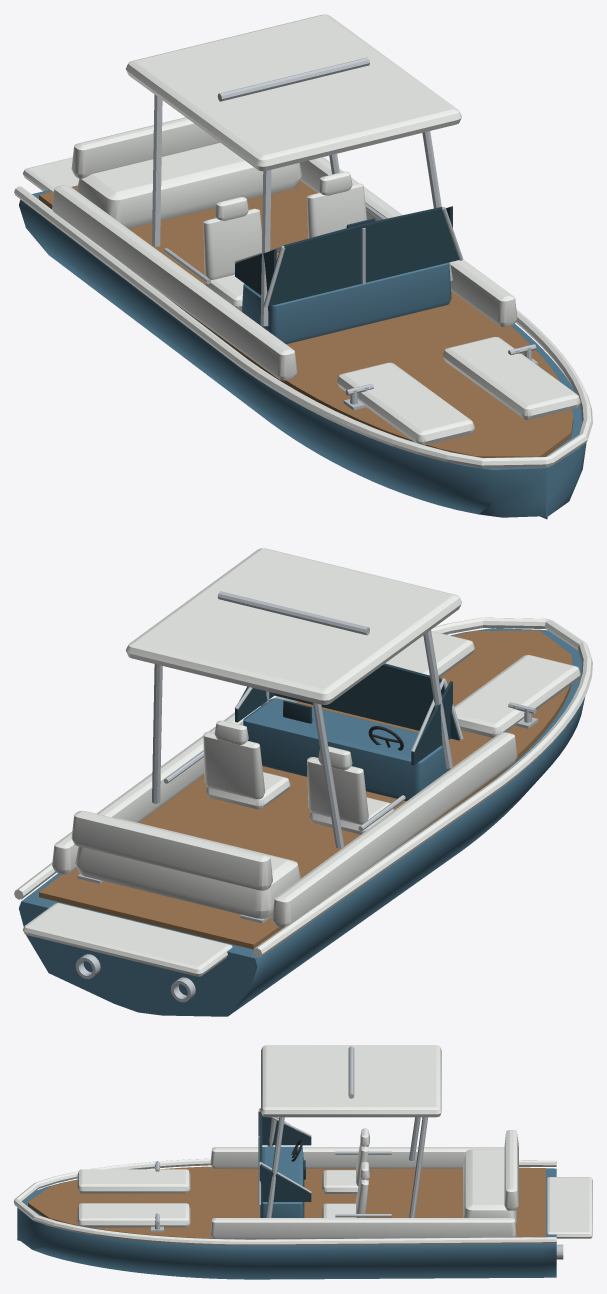
The model's file is transport-collection-hd-hardtop-runabout-af9c404b__18735.glb.
3 views of the same model, one above another, from view 1: azimuth 30°, elevation 25°; view 2: azimuth 150°, elevation 25°; view 3: azimuth 270°, elevation 25° (orthographic). The views are drawn at different scales.
Visible parts, largest first — view 1: hardtop-runabout; view 2: hardtop-runabout; view 3: hardtop-runabout.
Boxes of the visible parts, box(x1,y1,x2,y2) form: hardtop-runabout: box(14, 14, 592, 519); hardtop-runabout: box(14, 548, 592, 1016); hardtop-runabout: box(14, 1045, 592, 1279).
Size of the model in its own units: 2.49 by 2.61 by 7.19.
